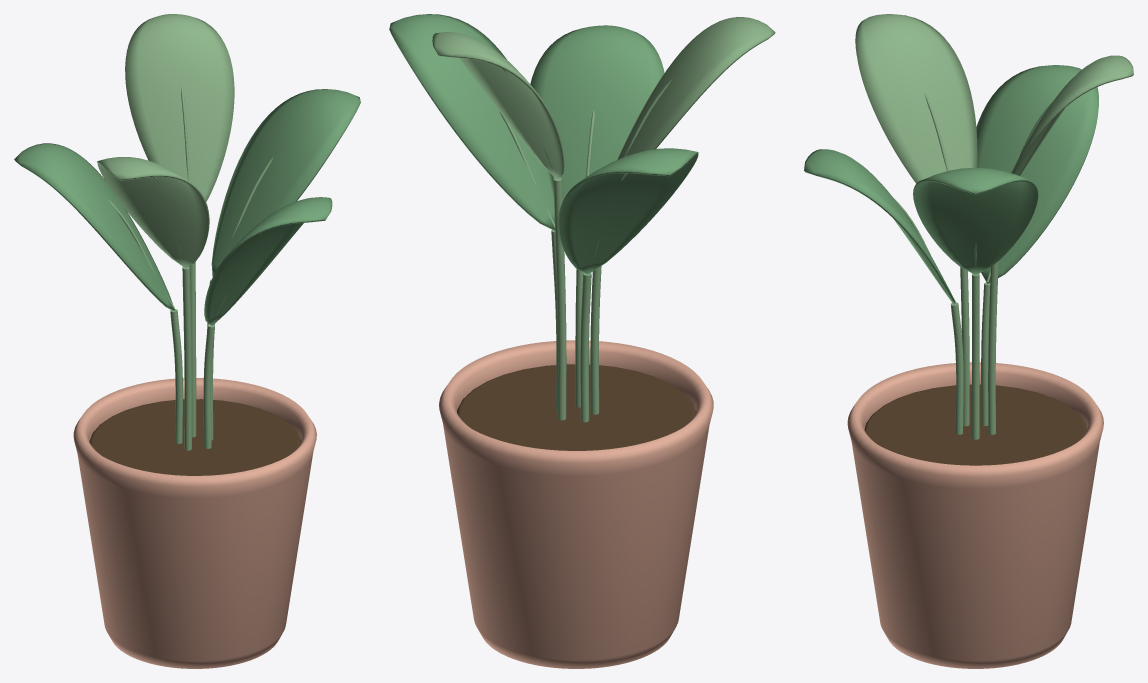
Rendered from plant.glb.
3 views of the same model, side by side, from view 1: azimuth 30°, elevation 25°; view 2: azimuth 150°, elevation 25°; view 3: azimuth 270°, elevation 25° (orthographic). The views are drawn at different scales.
Parts seen in each view (by area): view 1: PottedPlant | Peach ceramic glaze.001, PottedPlant | Young leaves green.001, PottedPlant | Broad leaves green.001, PottedPlant | Potting soil.001; view 2: PottedPlant | Peach ceramic glaze.001, PottedPlant | Broad leaves green.001, PottedPlant | Young leaves green.001, PottedPlant | Potting soil.001; view 3: PottedPlant | Peach ceramic glaze.001, PottedPlant | Broad leaves green.001, PottedPlant | Young leaves green.001, PottedPlant | Potting soil.001.
Boxes of the visible parts, x1,y1,x2,y2 form: PottedPlant | Peach ceramic glaze.001: (73, 378, 316, 668); PottedPlant | Young leaves green.001: (97, 14, 273, 450); PottedPlant | Broad leaves green.001: (14, 89, 360, 325); PottedPlant | Potting soil.001: (89, 399, 300, 475); PottedPlant | Peach ceramic glaze.001: (439, 340, 713, 668); PottedPlant | Broad leaves green.001: (389, 14, 698, 274); PottedPlant | Young leaves green.001: (432, 17, 775, 422); PottedPlant | Potting soil.001: (457, 364, 695, 450); PottedPlant | Peach ceramic glaze.001: (847, 362, 1103, 668); PottedPlant | Broad leaves green.001: (804, 65, 1098, 304); PottedPlant | Young leaves green.001: (855, 14, 1133, 439); PottedPlant | Potting soil.001: (864, 384, 1086, 465).
Bounding box in the file's own units: 0.7286 × 1.3 × 0.6613.
